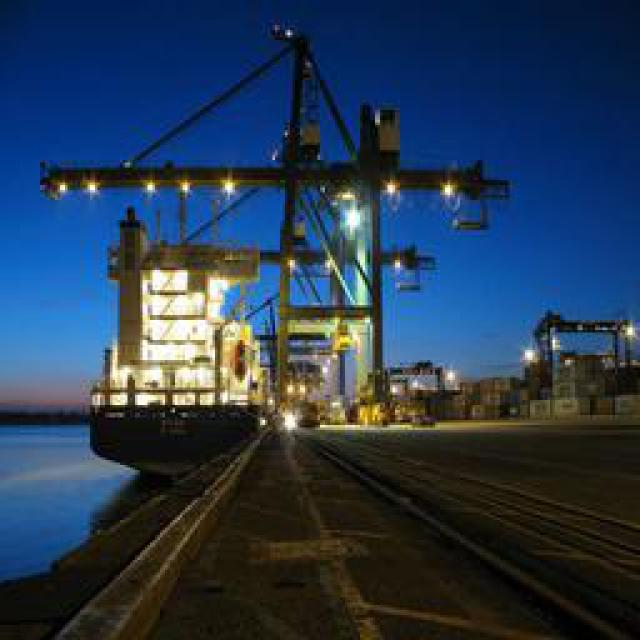Ship: (73, 204, 274, 488)
